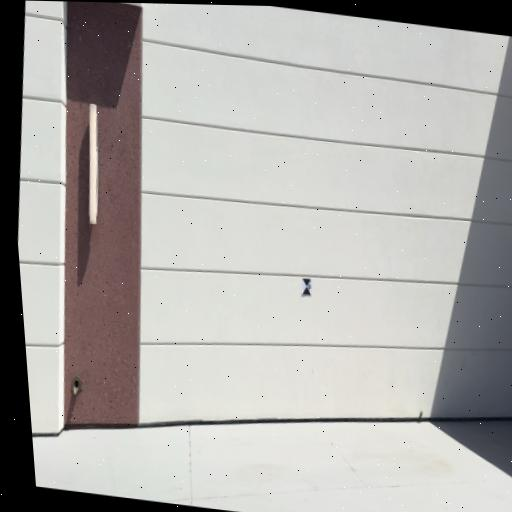target0: (301, 278, 314, 296)
